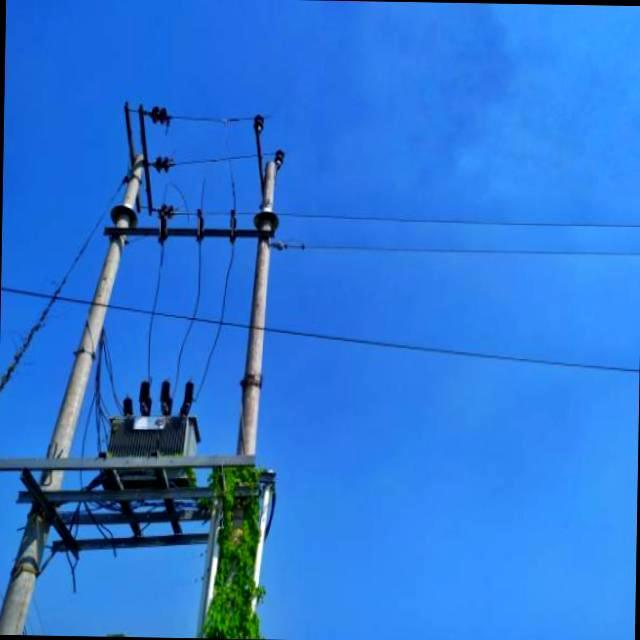light_pole: (198, 402, 276, 636)
